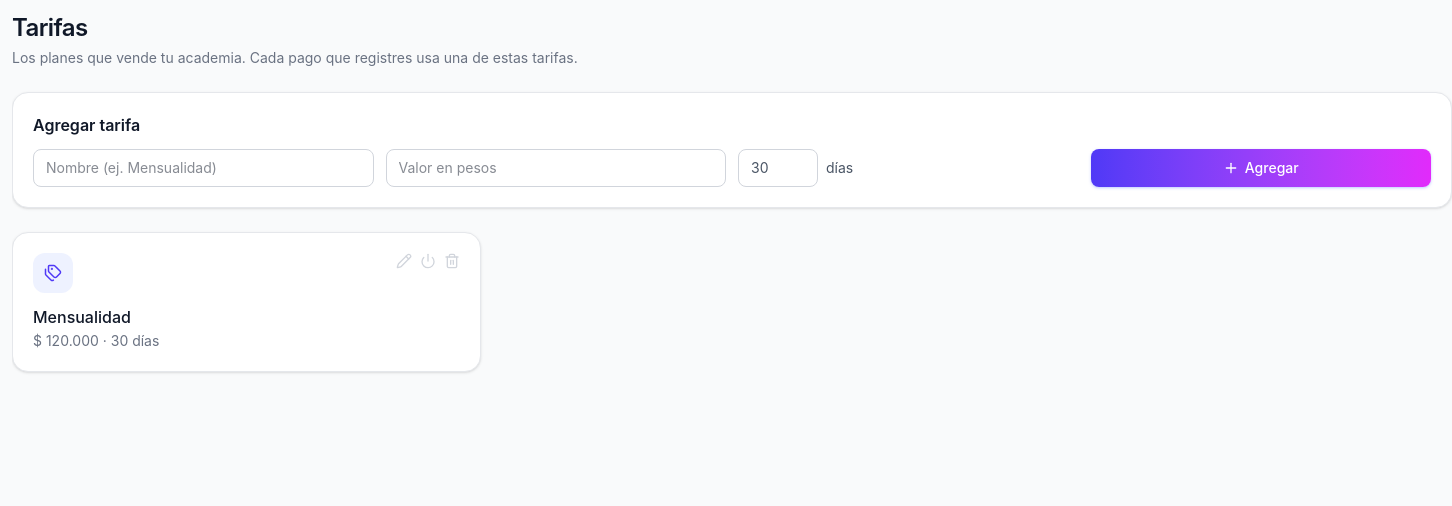
Test: RF-18 · HU-18: editar una tarifa (pantalla) › CP-235 · cancelar la edición no envía nada y deja la tarifa como estaba
Click the button named "Editar Mensualidad": (404, 261) [396,253,412,269]
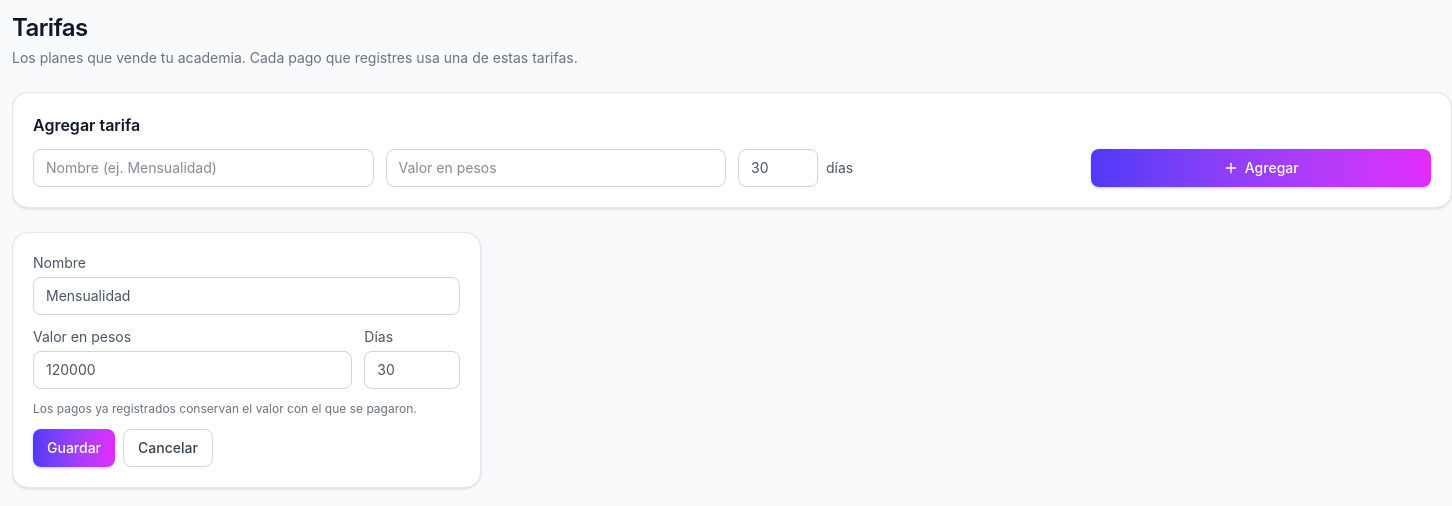
Replace the text in the number field labelled "Valor en pesos" below "Nombre" with "1": (193, 370) [33,351,352,389]
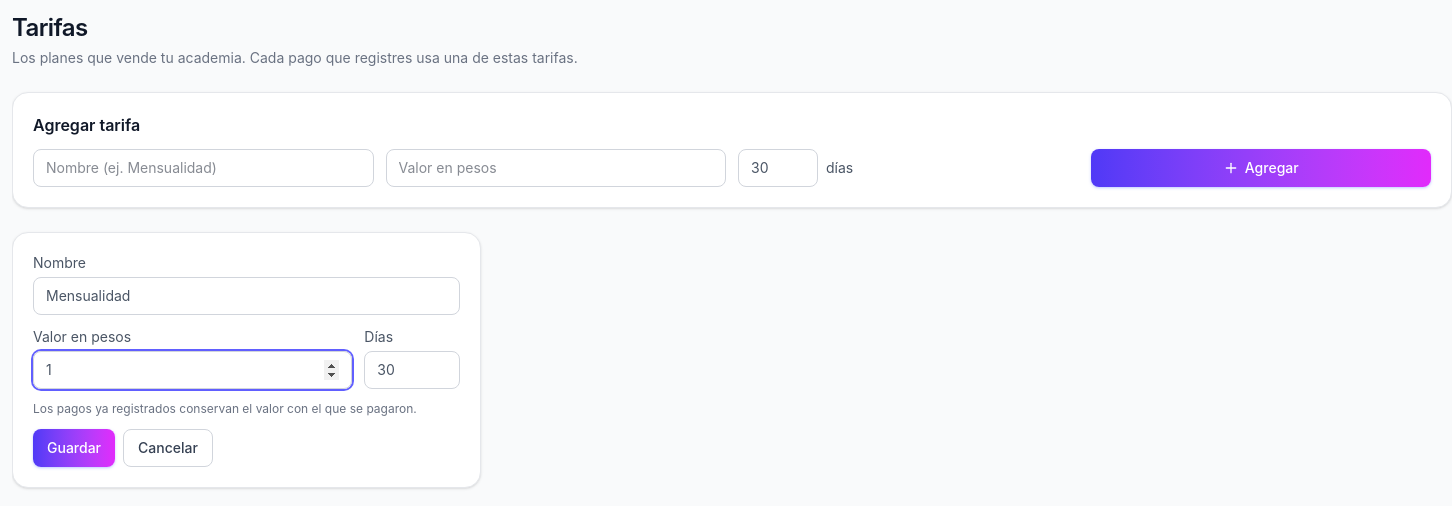
Click the button "Cancelar": (168, 448) [123,429,213,467]
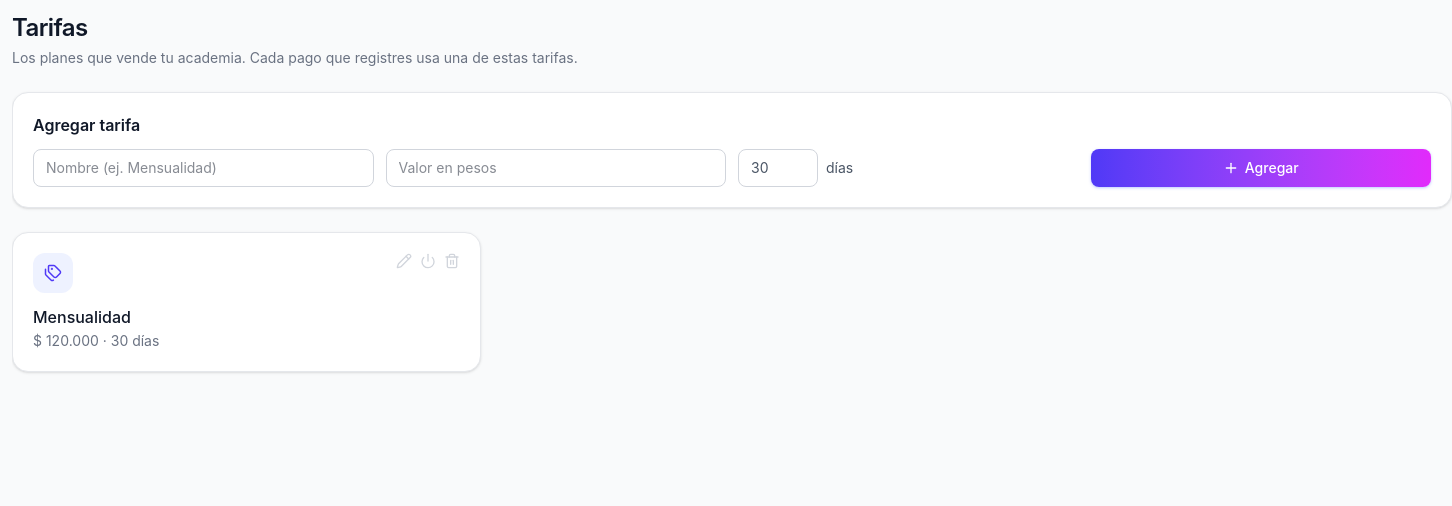
Result: the text "$ 120.000 · 30 días" is shown at [33,332,159,349]
